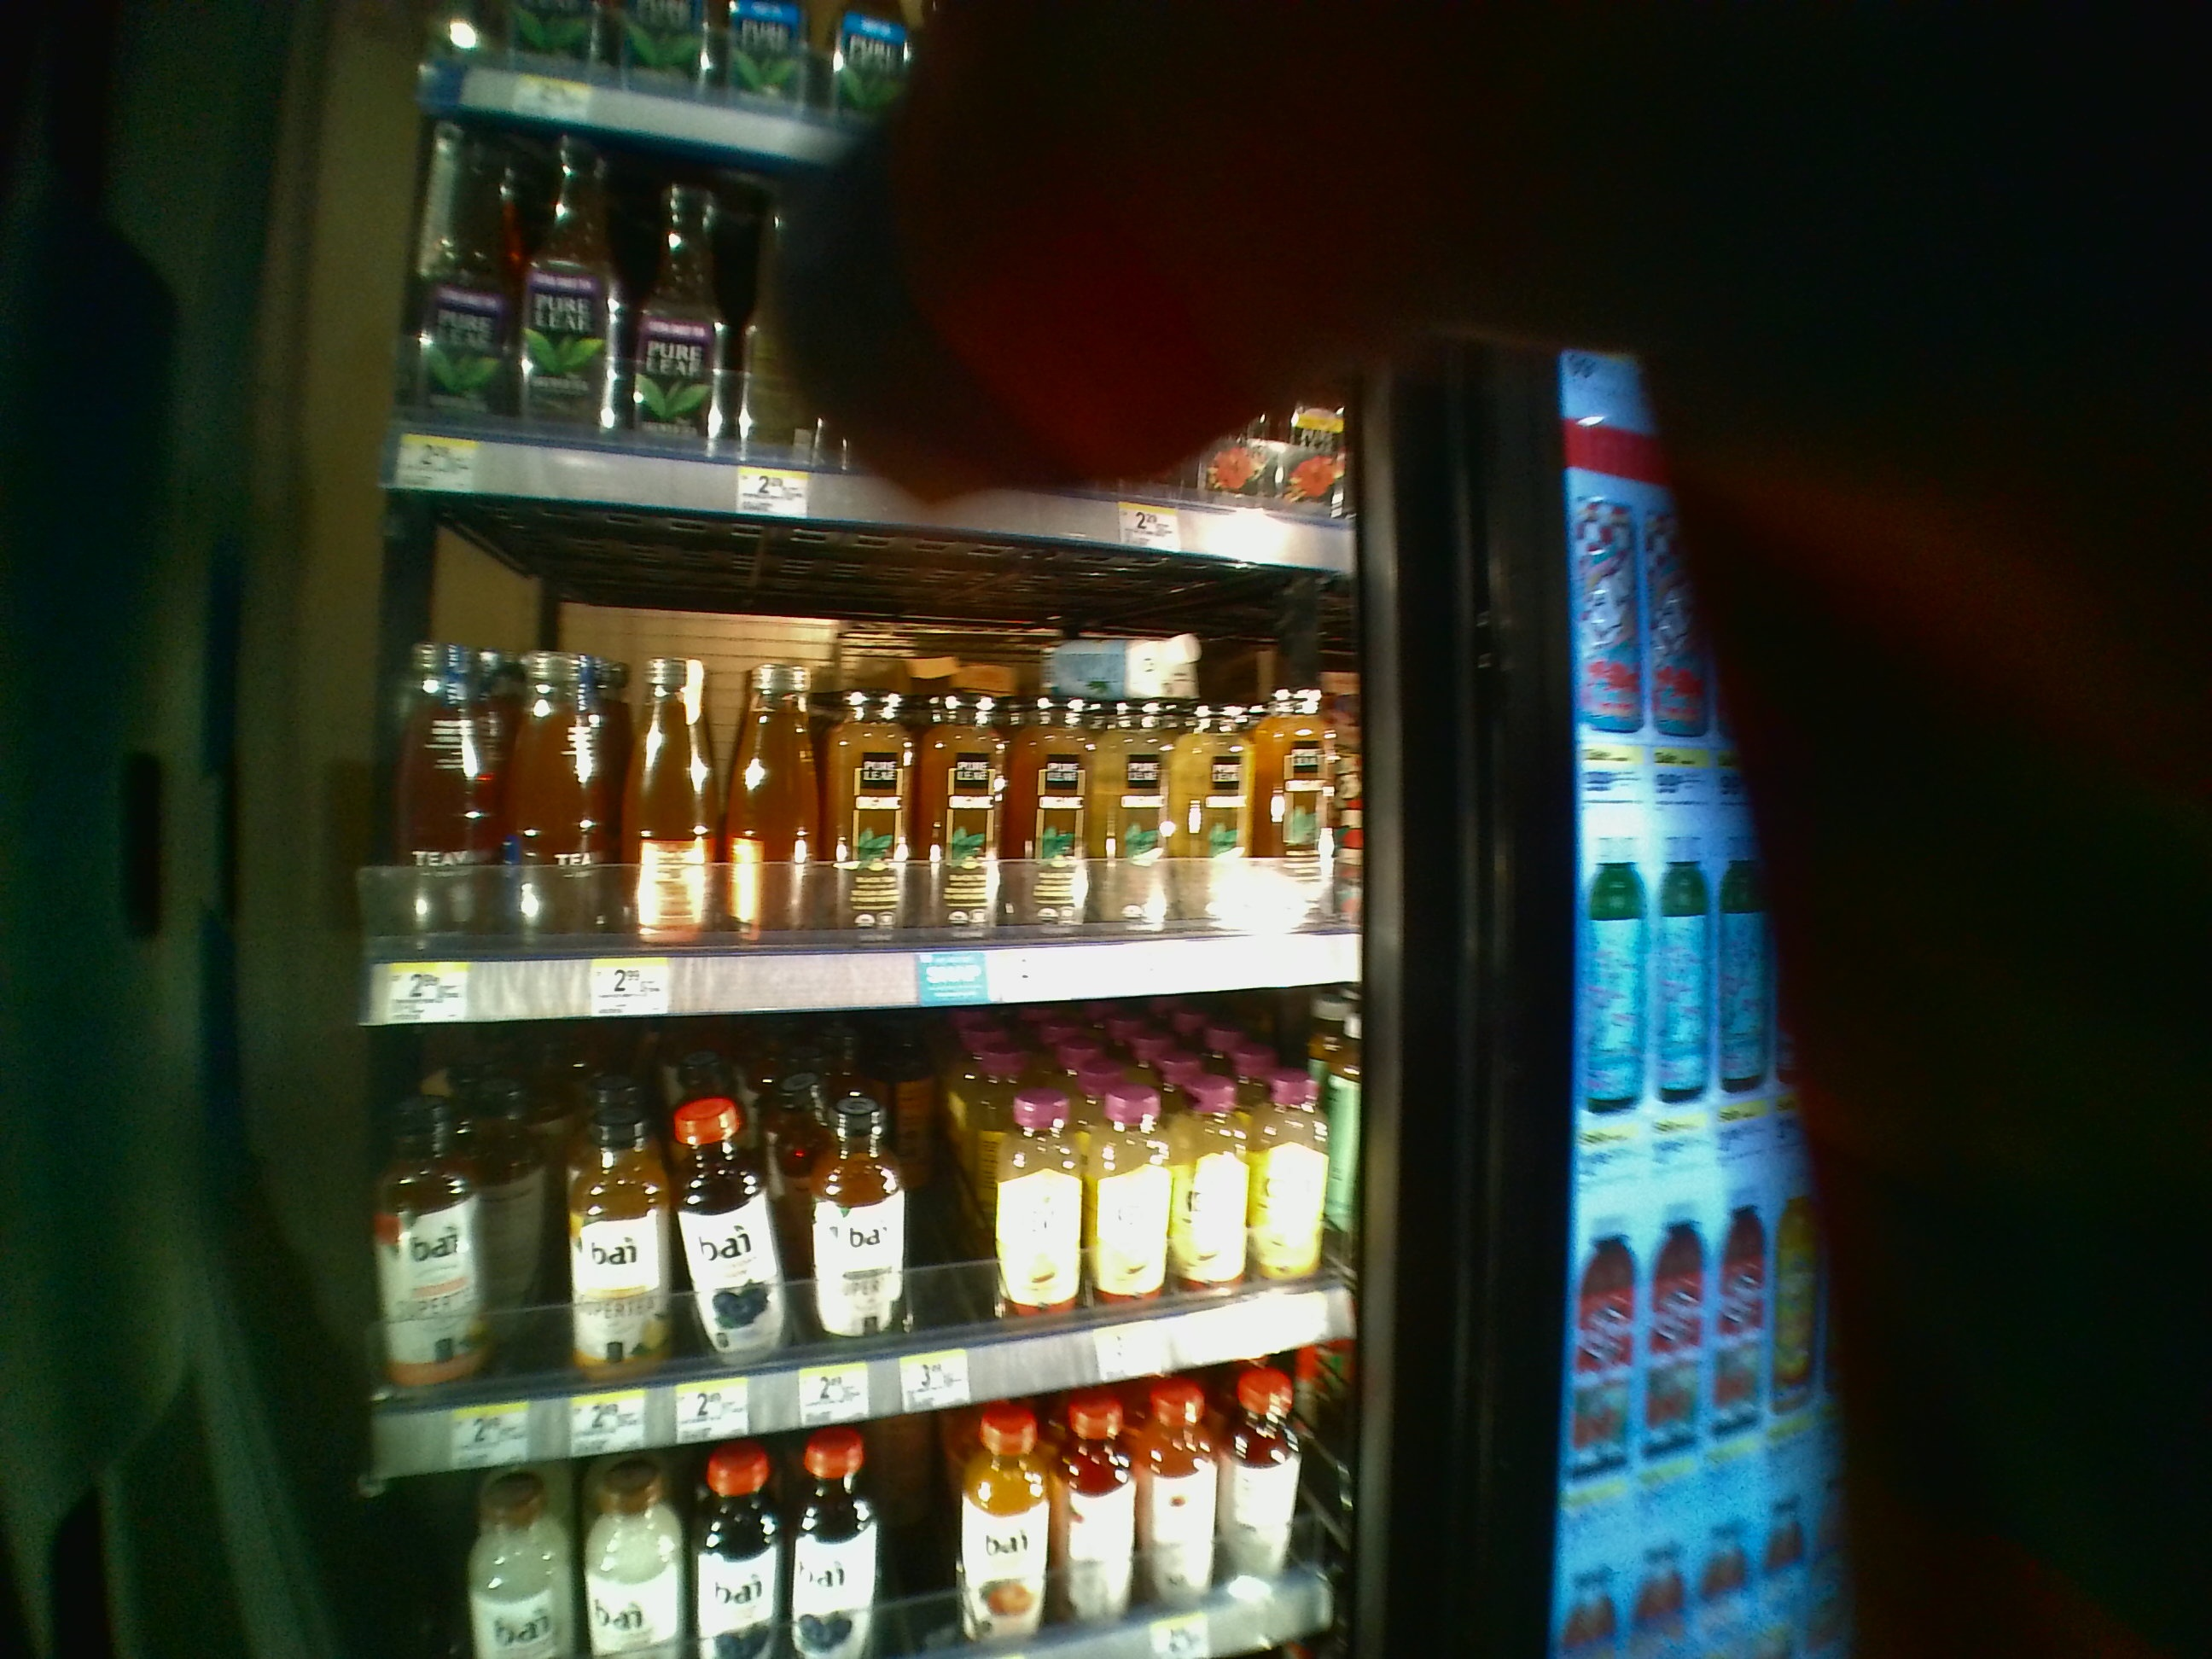shelf: (364, 495, 1371, 1018), (361, 1030, 1371, 1469)
